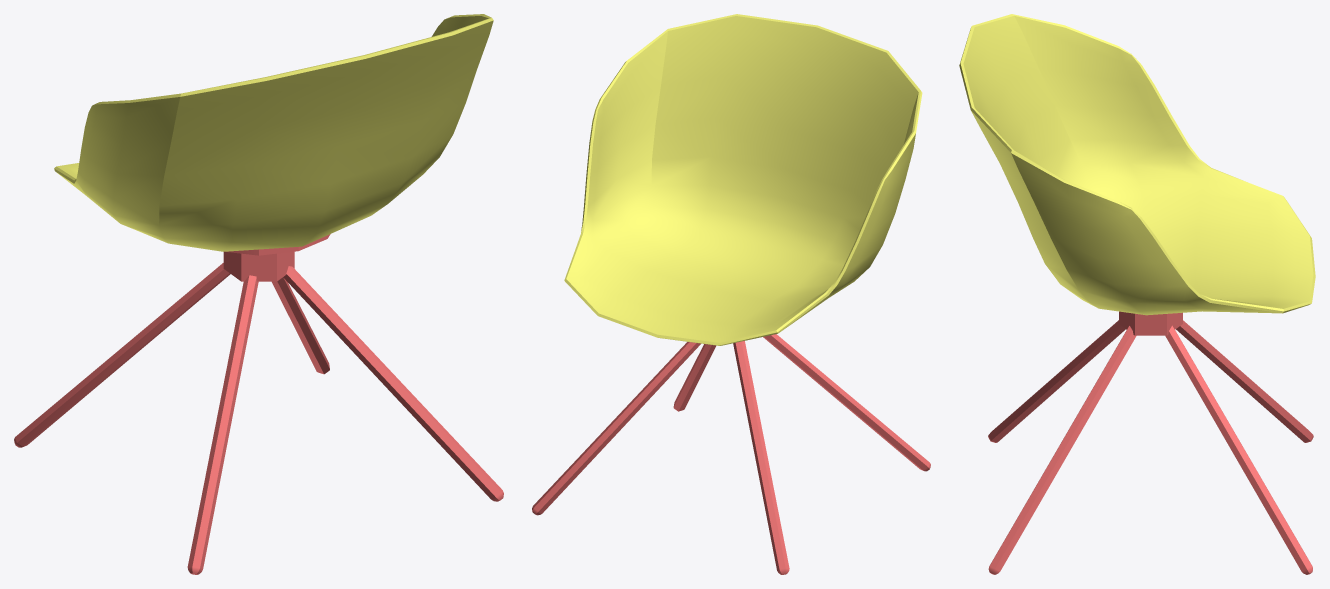
Rendered from SM_ChairA01.fbx.
3 views of the same model, side by side, from view 1: azimuth 30°, elevation 25°; view 2: azimuth 150°, elevation 25°; view 3: azimuth 270°, elevation 25° (orthographic). The views are drawn at different scales.
Visible parts, largest first — view 1: SM_ChairA01; view 2: SM_ChairA01; view 3: SM_ChairA01.
Part boxes in pixels (box(x1,y1,x2,y2)): SM_ChairA01: box(14, 14, 503, 574); SM_ChairA01: box(532, 14, 930, 574); SM_ChairA01: box(959, 14, 1315, 574).
Bounding box in the file's own units: 0.6688 × 0.8835 × 0.6409.
